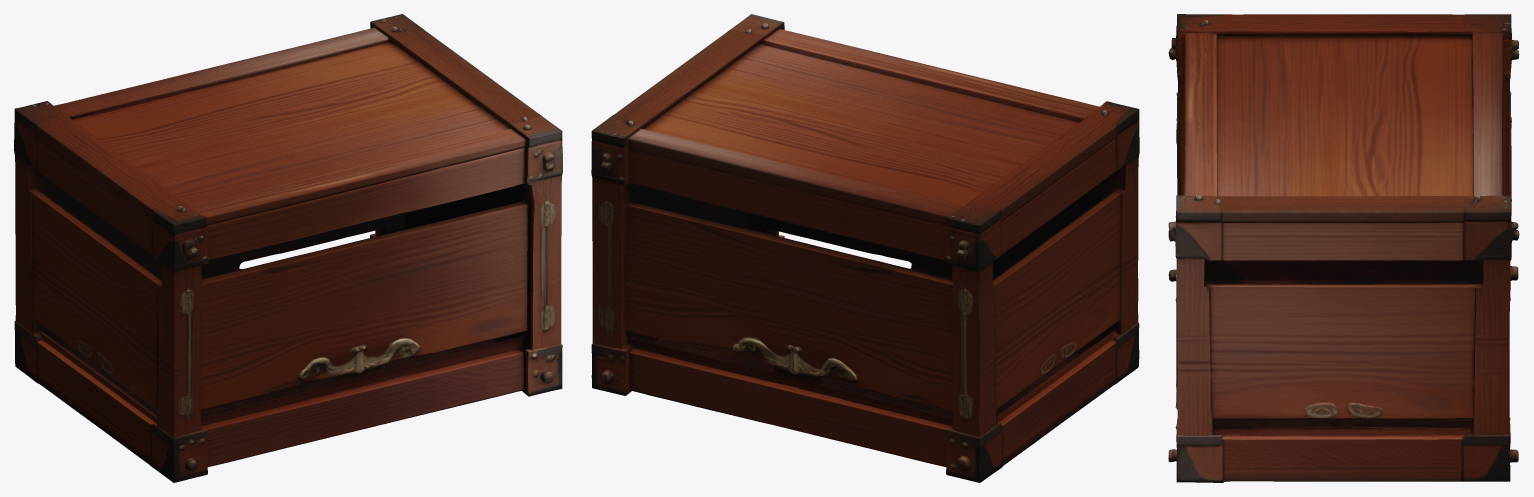
File: wooden-crate-3d.jpeg.glb
The picture shows the model from 3 angles, left to right: view 1: azimuth 30°, elevation 25°; view 2: azimuth 150°, elevation 25°; view 3: azimuth 270°, elevation 25°; orthographic projection. The views are drawn at different scales.
Parts seen in each view (by area): view 1: world; view 2: world; view 3: world.
Part boxes in pixels (x1,y1,x2,y2): world: [14, 14, 562, 482]; world: [591, 14, 1139, 482]; world: [1168, 14, 1519, 482].
Bounding box in the file's own units: 1 × 0.6521 × 0.7475.
Materials: 1 (1 with a texture image).
